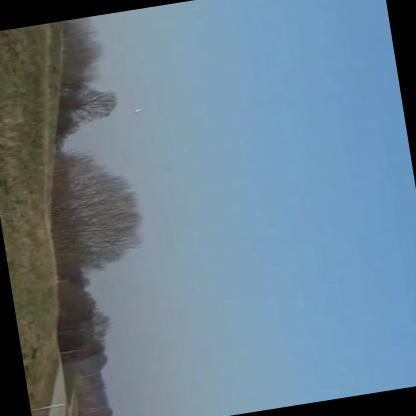plane: (127, 102, 147, 118)
